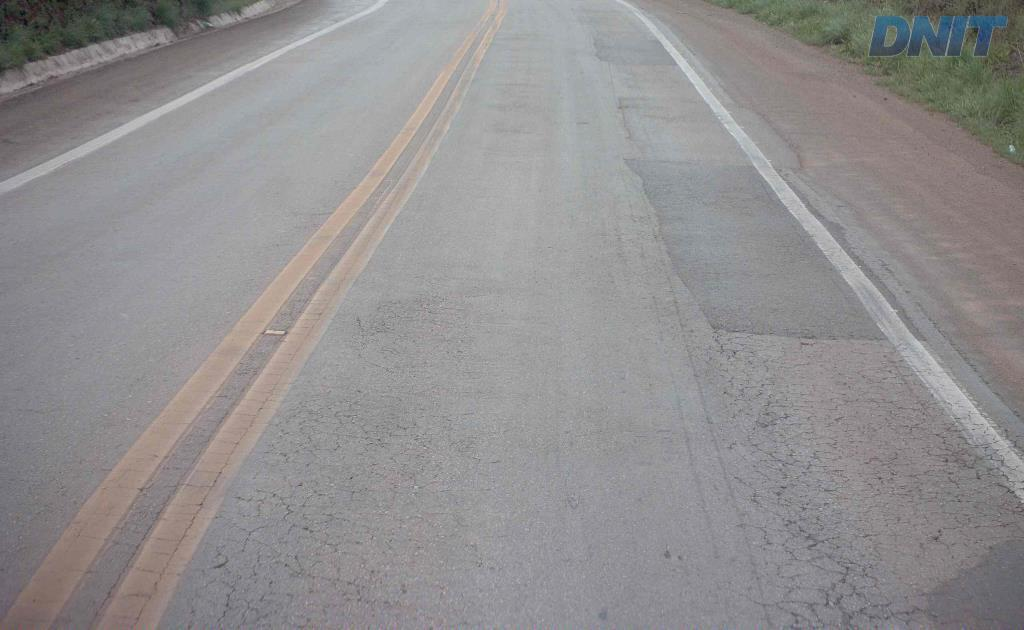crack: (789, 552, 916, 629), (863, 395, 952, 446), (790, 515, 840, 553), (887, 481, 954, 508), (707, 320, 758, 354)
